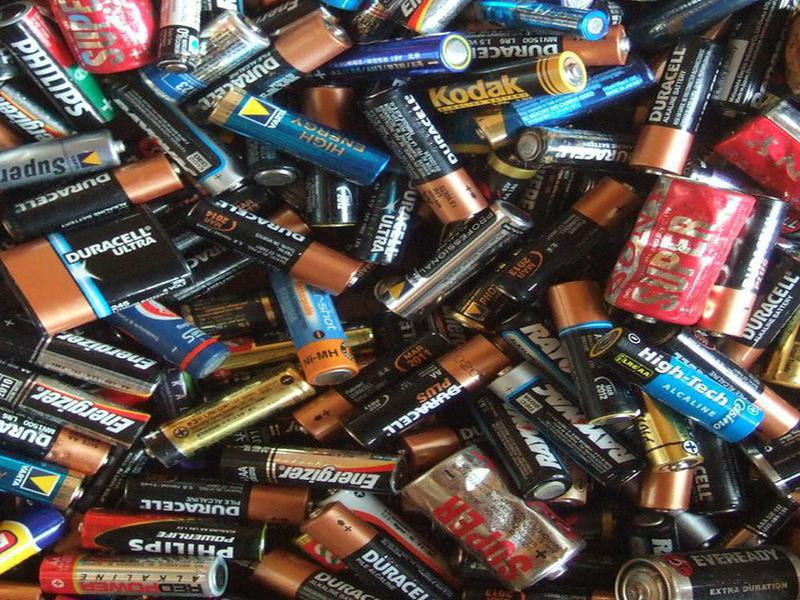battery: (389, 444, 592, 593), (1, 199, 187, 341), (600, 170, 758, 334), (583, 318, 770, 449), (368, 196, 536, 327), (333, 334, 516, 452), (178, 193, 369, 301), (203, 80, 395, 187), (133, 361, 316, 472), (360, 78, 495, 226), (540, 270, 655, 433), (620, 32, 732, 183), (66, 505, 275, 565), (416, 44, 593, 110)
